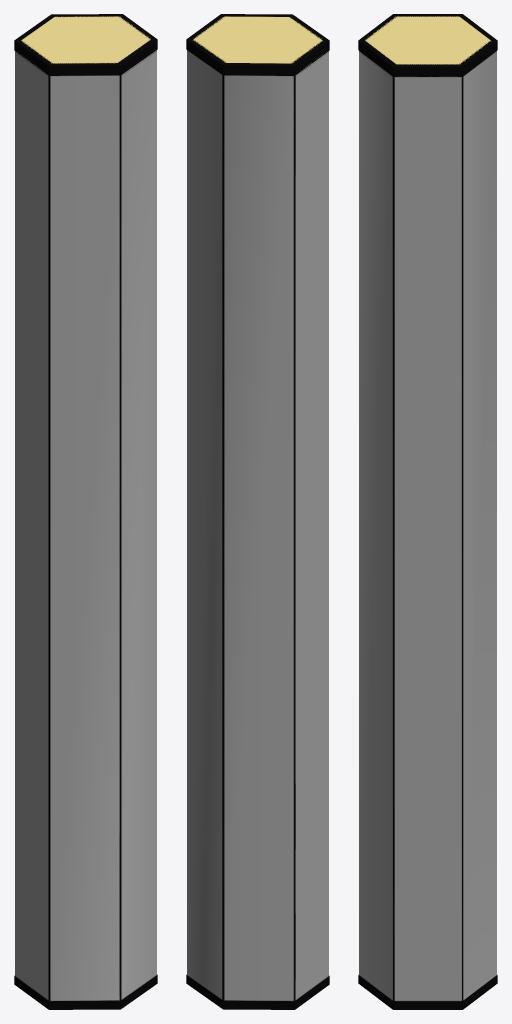
File: Tile_Simple.fbx
3 renders of one model, left to right at view 1: azimuth 30°, elevation 25°; view 2: azimuth 150°, elevation 25°; view 3: azimuth 270°, elevation 25°, orthographic.
Parts seen in each view (by area): view 1: Tile_Hex_LP; view 2: Tile_Hex_LP; view 3: Tile_Hex_LP.
Part boxes in pixels (x1,y1,x2,y2): Tile_Hex_LP: [14, 14, 157, 1009]; Tile_Hex_LP: [186, 14, 329, 1009]; Tile_Hex_LP: [358, 14, 497, 1009].
Size of the model in its own units: 180 by 1493 by 200.
Materials: 1 (1 with a texture image).
